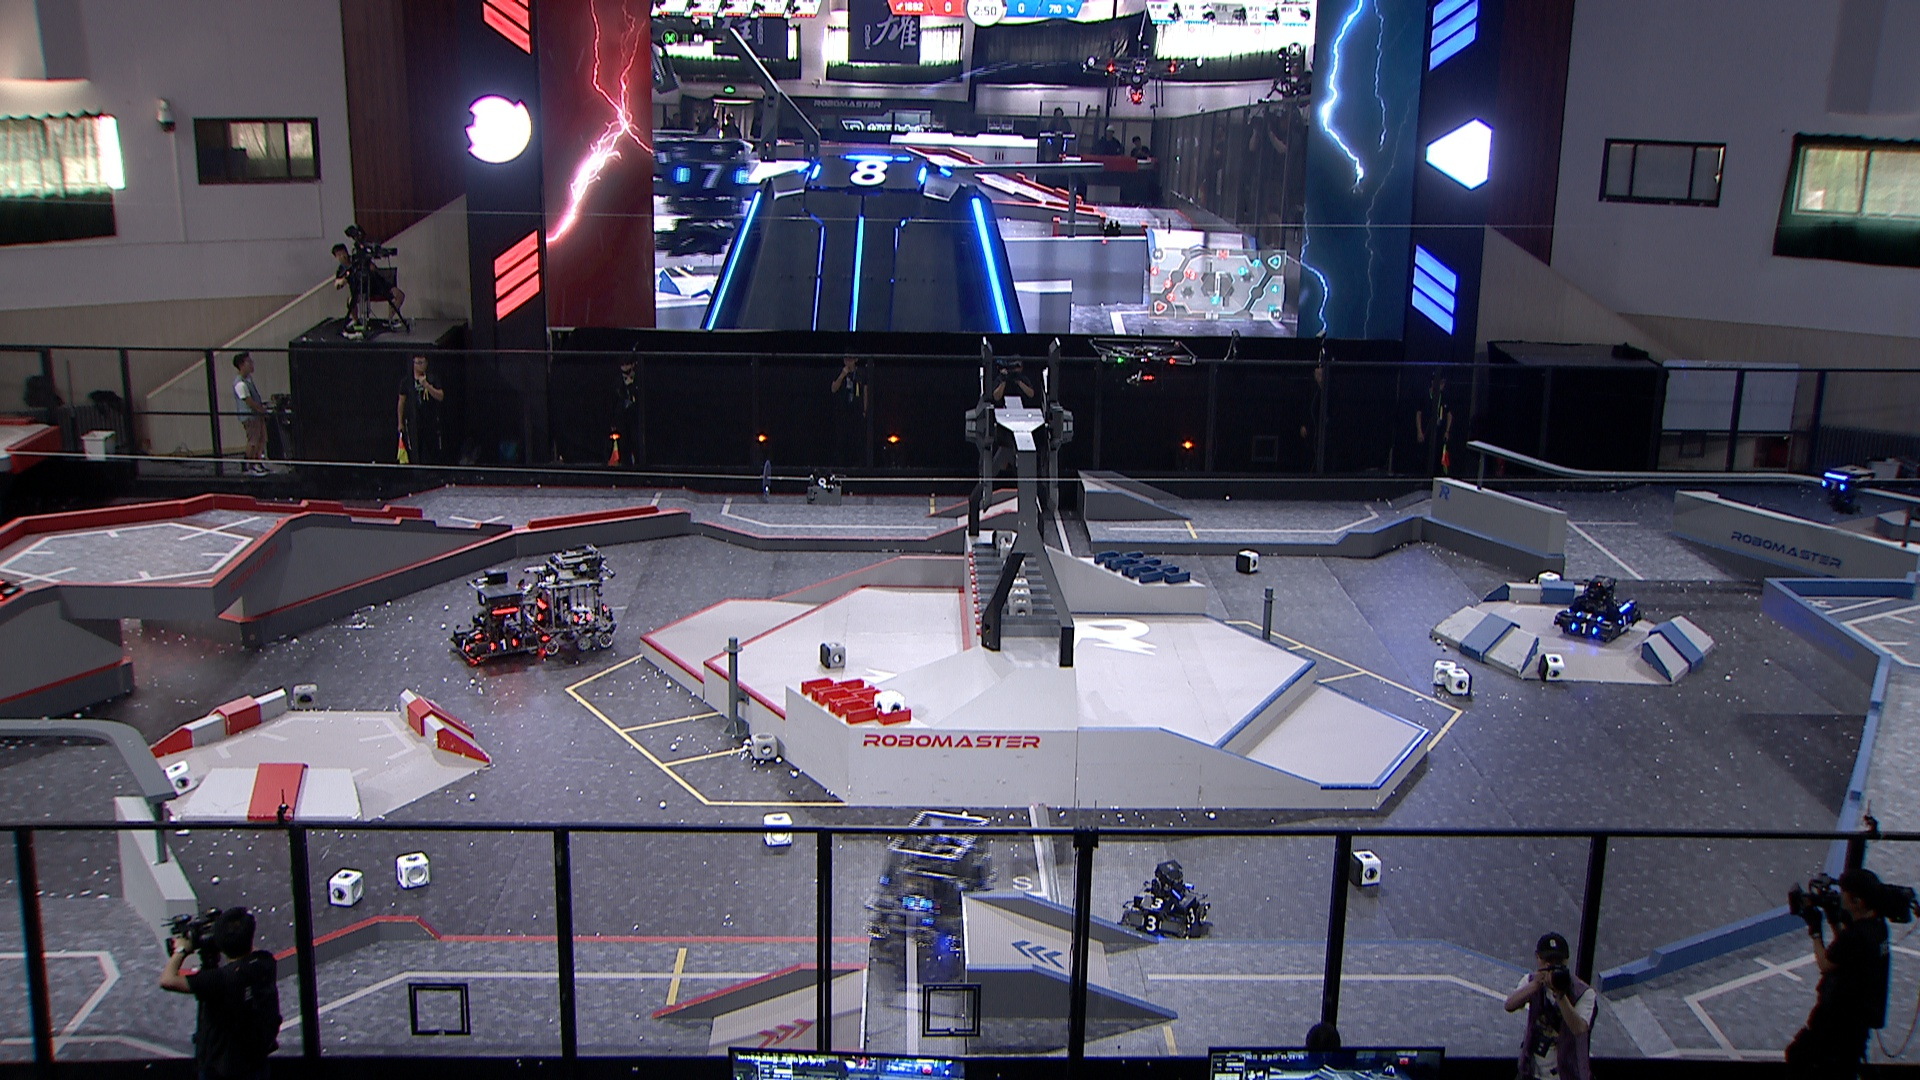armor: (901, 893, 935, 915), (487, 636, 518, 655), (1139, 897, 1176, 913), (1821, 479, 1849, 495), (1571, 621, 1600, 636), (1139, 915, 1163, 932), (1575, 611, 1604, 624), (571, 613, 593, 628), (458, 637, 473, 655), (1185, 906, 1201, 924), (467, 626, 484, 642), (1618, 613, 1633, 626)
car: (862, 807, 998, 956), (524, 541, 618, 654), (451, 568, 541, 665), (1116, 855, 1212, 940), (1551, 571, 1642, 646)
ignore: (698, 154, 1025, 334), (651, 131, 752, 256)
watcher: (1818, 465, 1876, 517)
